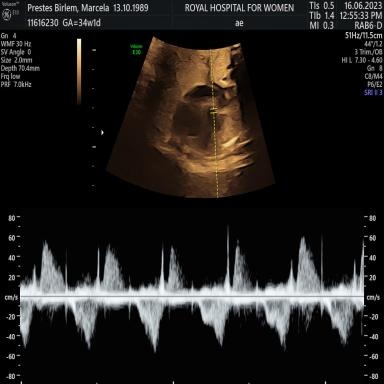Ultrasound-Waves: (24, 212, 361, 384)
